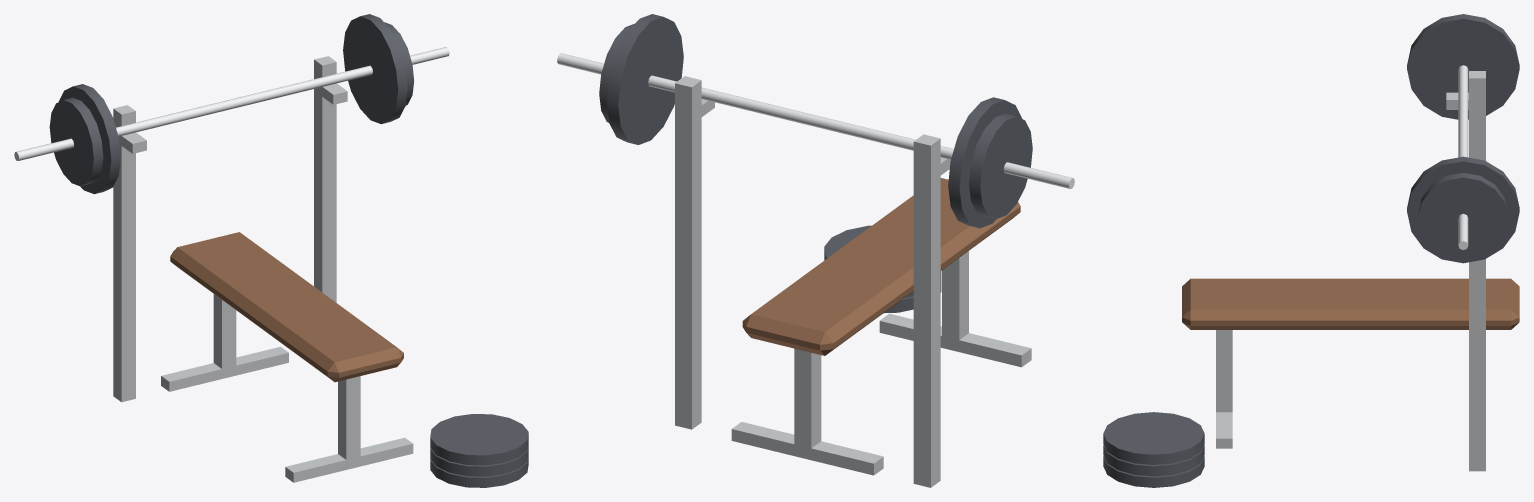
The model's file is weight_bench.glb.
3 views of the same model, side by side, from view 1: azimuth 30°, elevation 25°; view 2: azimuth 150°, elevation 25°; view 3: azimuth 270°, elevation 25° (orthographic). The views are drawn at different scales.
Parts seen in each view (by area): view 1: weight_bench; view 2: weight_bench; view 3: weight_bench.
Boxes of the visible parts, x1=… form: weight_bench: x1=14, y1=14, x2=528, y2=487; weight_bench: x1=557, y1=14, x2=1074, y2=487; weight_bench: x1=1103, y1=14, x2=1519, y2=487.
Bounding box in the file's own units: 1.8 × 1.3 × 1.48.
